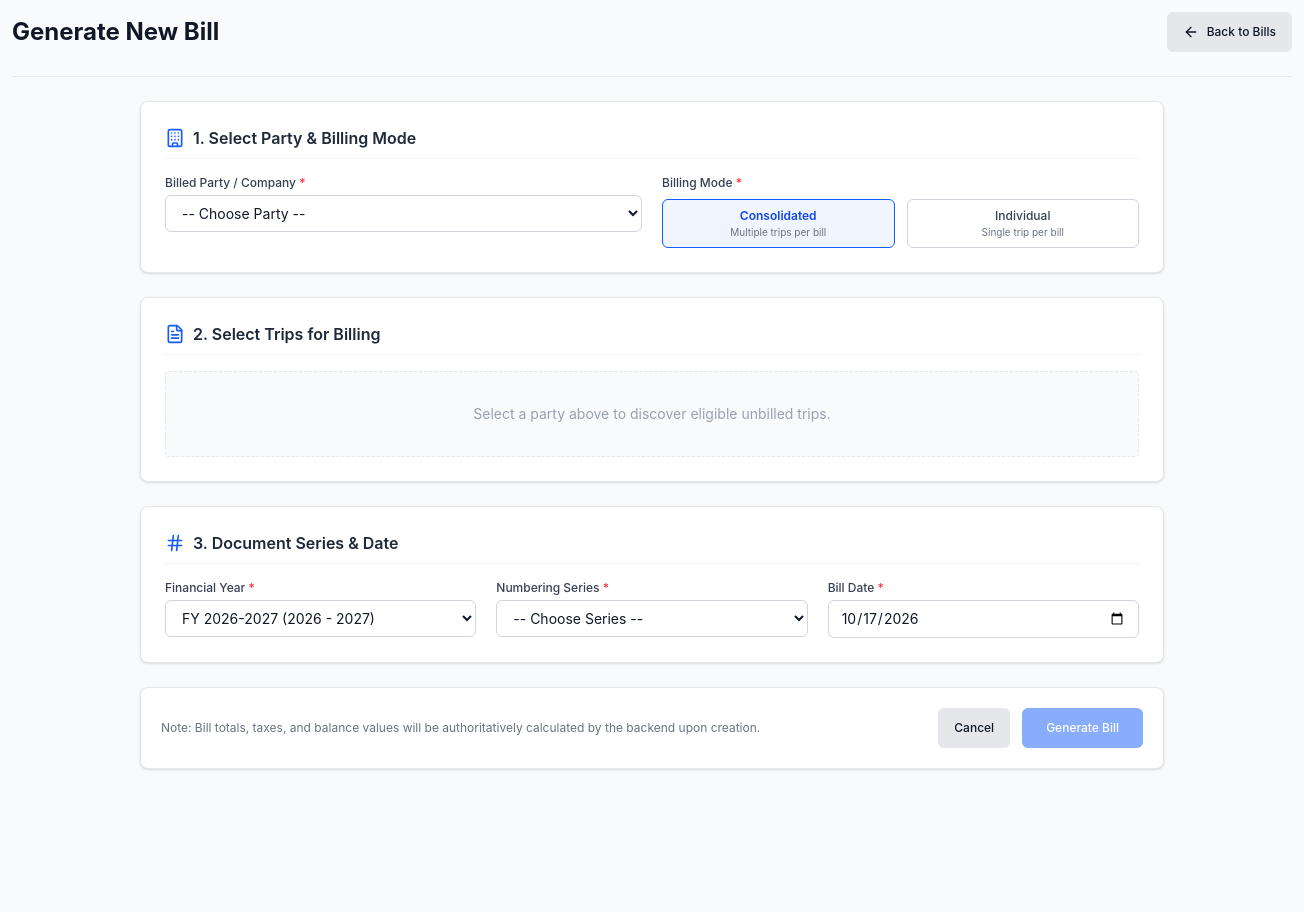
CreateBill Page › loads and selects eligible trips when party is chosen, calculating preview total
Select "UltraTech Cement Ltd (COMPANY)" in the dropdown labelled "Billed Party / Company *" at (404, 214), box [165,195,642,232]
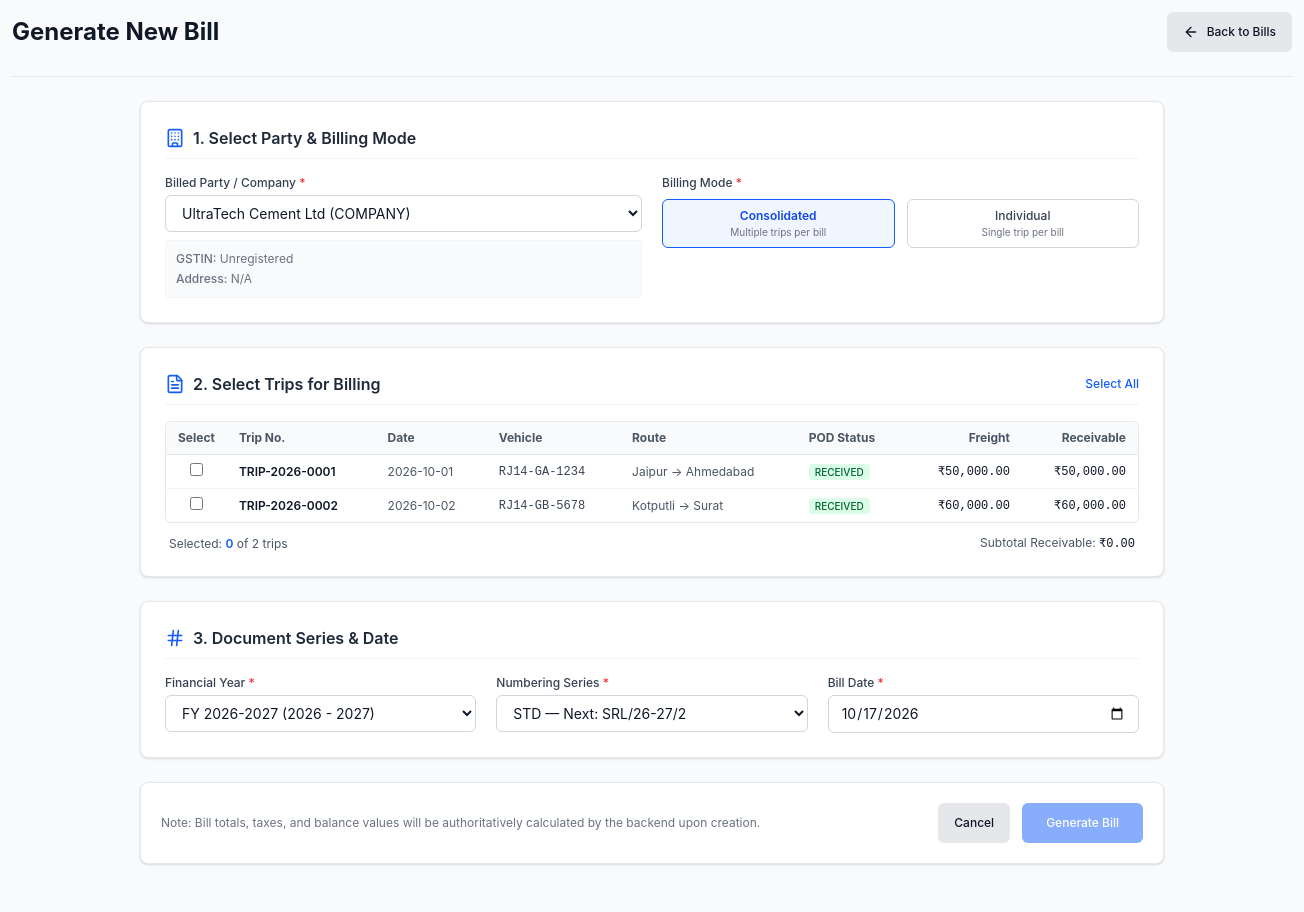
Now the text "TRIP-2026-0001" is shown, box [227,454,376,488]
Now the text "TRIP-2026-0002" is shown, box [227,488,376,522]
# Select the first trip by clicking its checkbox
Click the checkbox named "Select trip TRIP-2026-0001" at (196, 470), box [190,463,203,476]
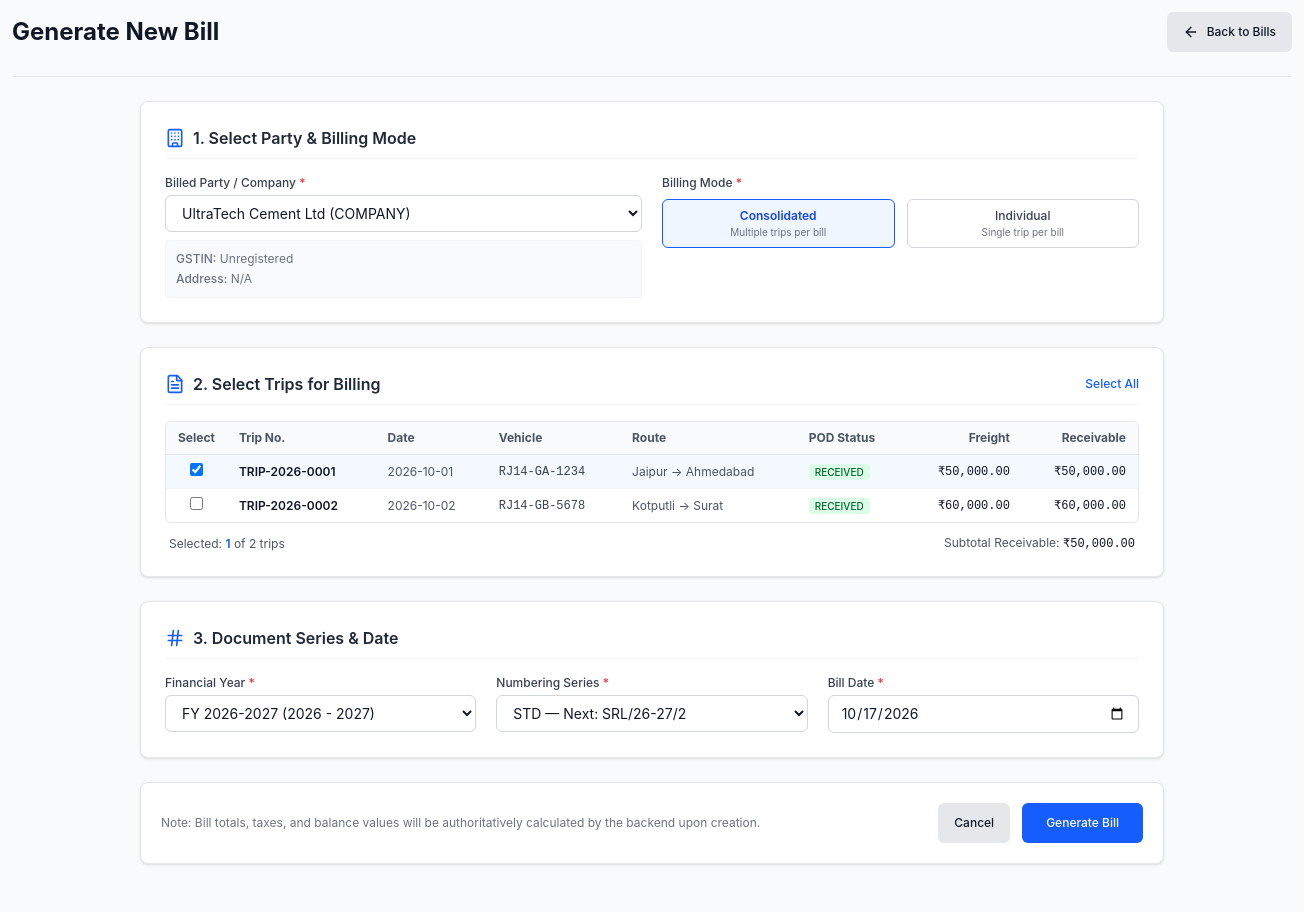
Now the text "Subtotal Receivable:" is shown, box [944,535,1063,550]
Now the 1st text "₹50,000.00" is shown, box [938,465,1010,479]
# Select the second trip
Click the checkbox named "Select trip TRIP-2026-0002" at (196, 504), box [190,497,203,510]
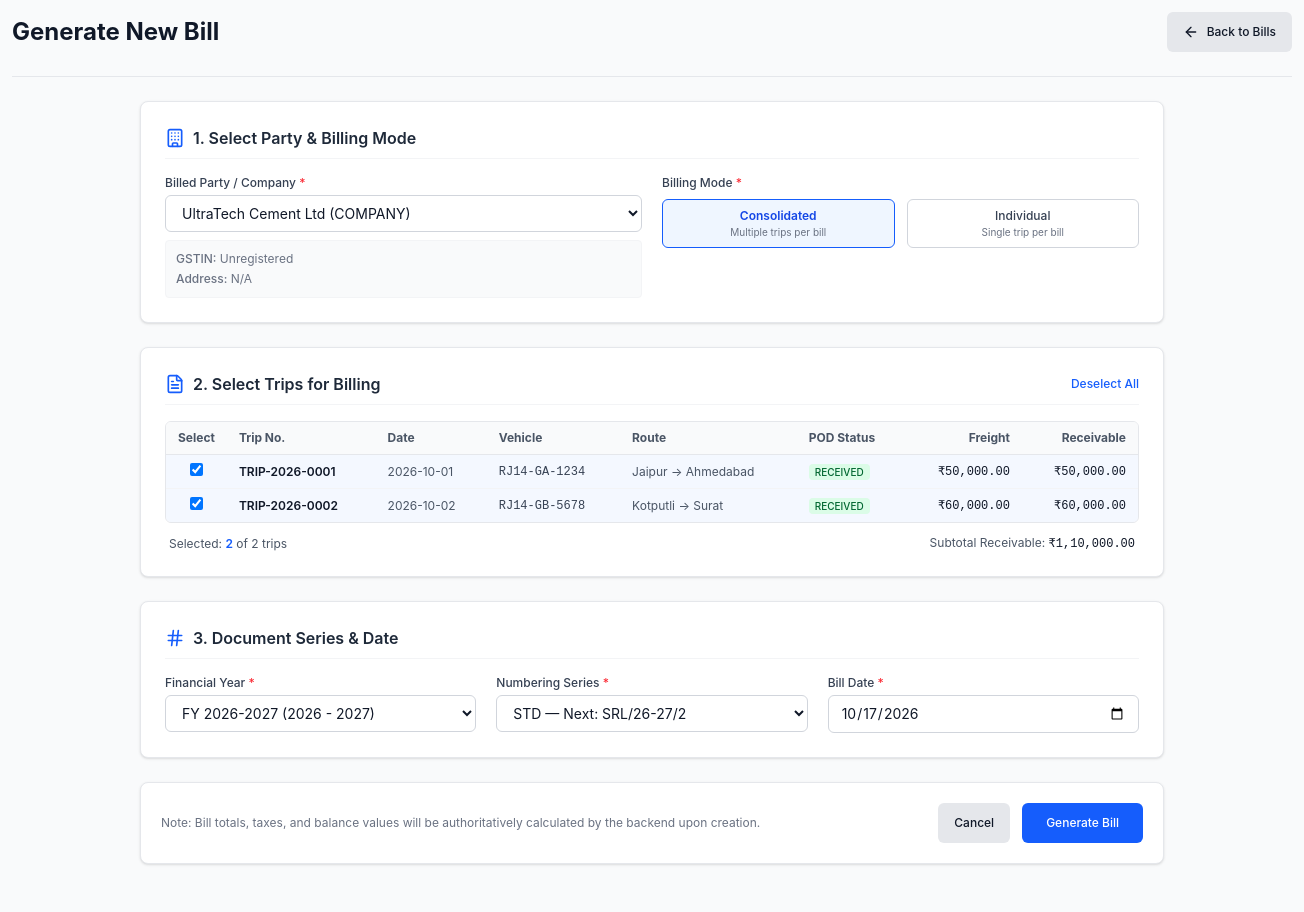
Now the text "₹1,10,000.00" is shown, box [1049,537,1135,551]
